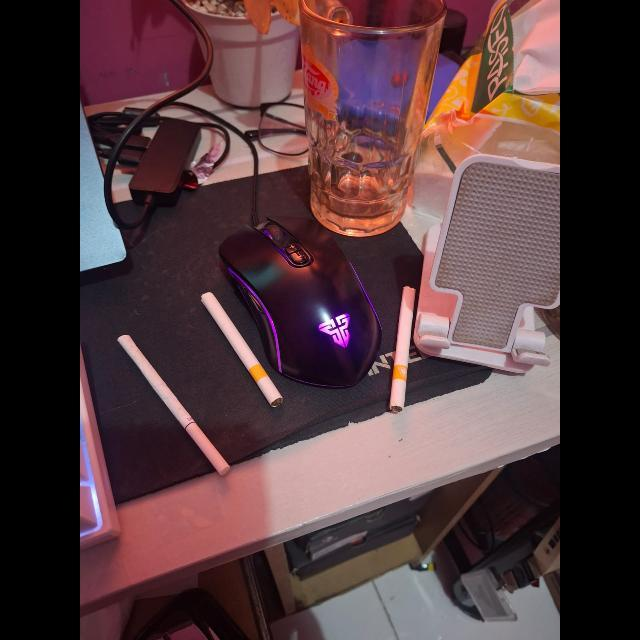rokok: (112, 332, 234, 482), (200, 290, 282, 404), (391, 286, 417, 412)
